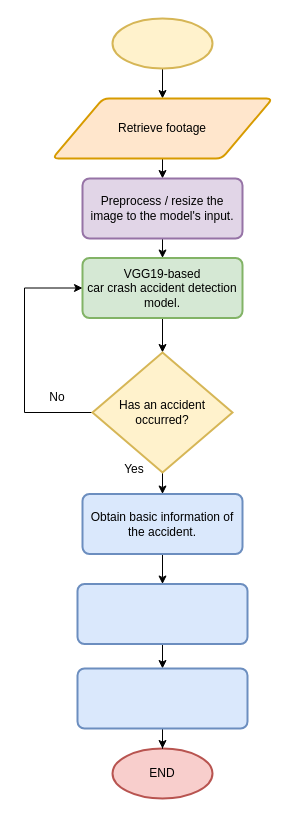
Some shapes in this 291 by 816 pixel diagram are drawn without their labels. Each missing label, with the centre of its shape:
"Create Alarm in the Monitoring Room" belongs at (162,613).
"Send SMS notification to emergency responders including the accident details." belongs at (162,698).
"START" belongs at (162,43).
